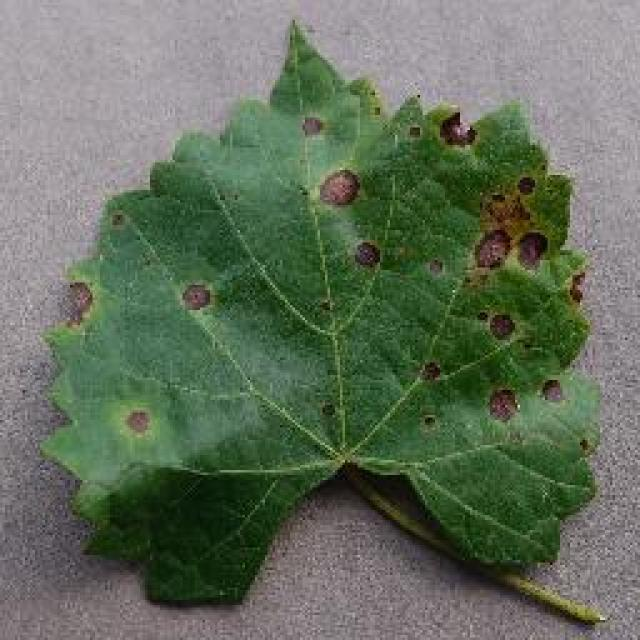Grape___Black_rot: (36, 12, 613, 637)
